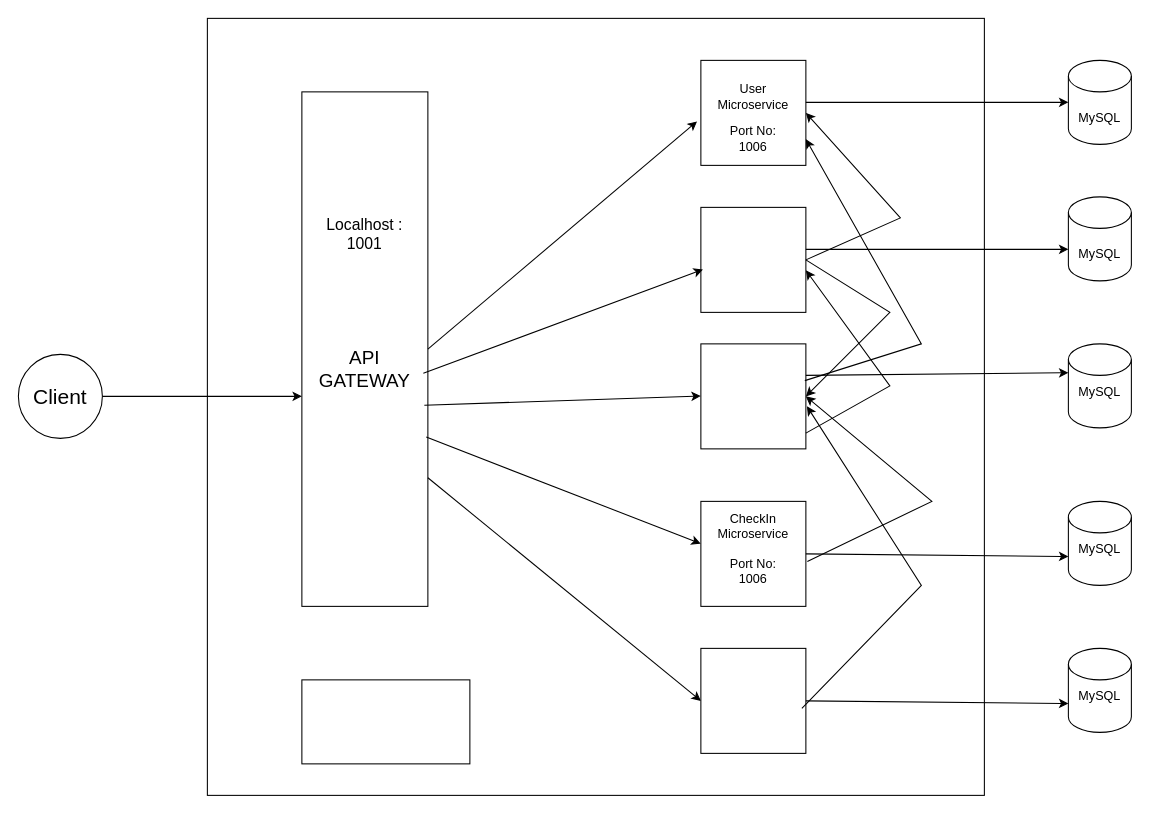
The diagram is 1150 pixels wide and 814 high, and some of its shapes have lost their labels. The shapes that lost their labels are listed below. From the top down, each one's centre as x and y in pixels, then its label:
At [753,259]: "Flight Microservice Port No: 1000".
At [753,396]: "Booking Microservice Port No: 1004".
At [753,700]: "Payment Microservice Port No: 1007".
At [385,721]: "Service Registry Port No : 8761".
